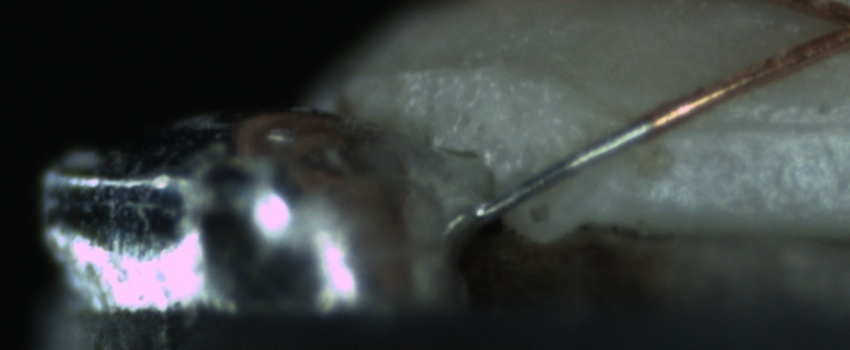CL: (812, 4, 849, 52)
DL: (664, 97, 849, 161)
TS: (479, 116, 657, 220)
